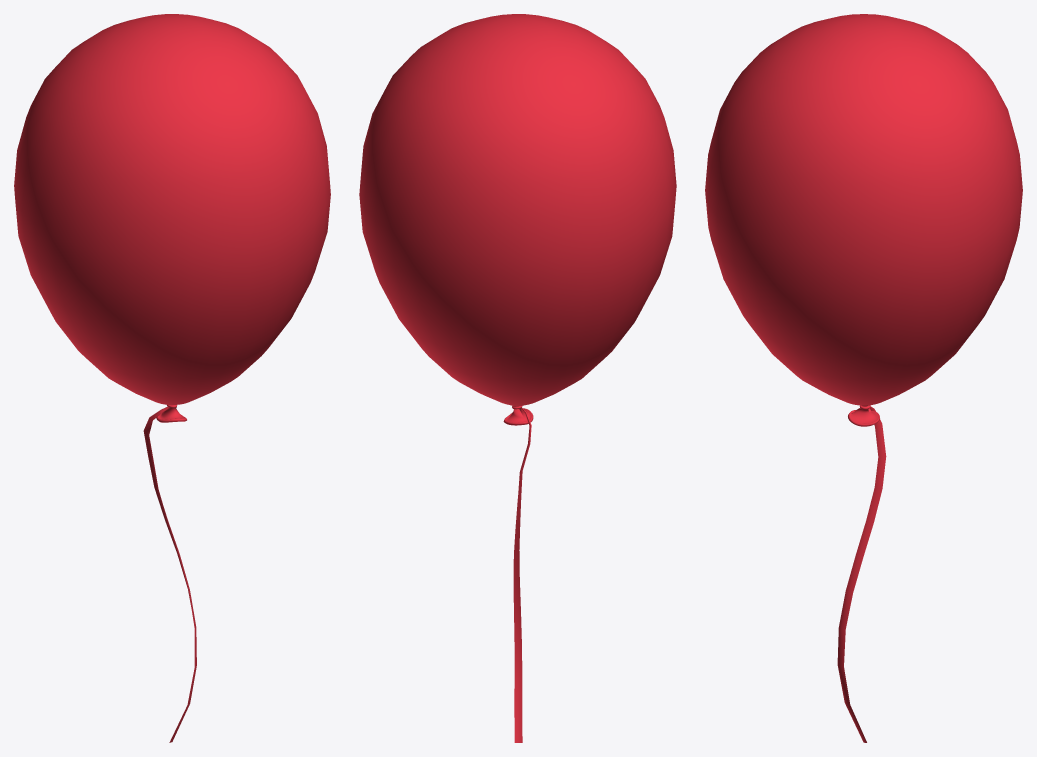
The model's file is balloon.gltf.
3 renders of one model, left to right at view 1: azimuth 30°, elevation 25°; view 2: azimuth 150°, elevation 25°; view 3: azimuth 270°, elevation 25°, orthographic.
Parts seen in each view (by area): view 1: BALLOON; view 2: BALLOON; view 3: BALLOON.
Boxes of the visible parts, <box> form: BALLOON: <box>14,14,330,742</box>; BALLOON: <box>359,14,676,742</box>; BALLOON: <box>705,14,1022,742</box>.
Bounding box in the file's own units: 0.2191 × 0.5431 × 0.2191.
